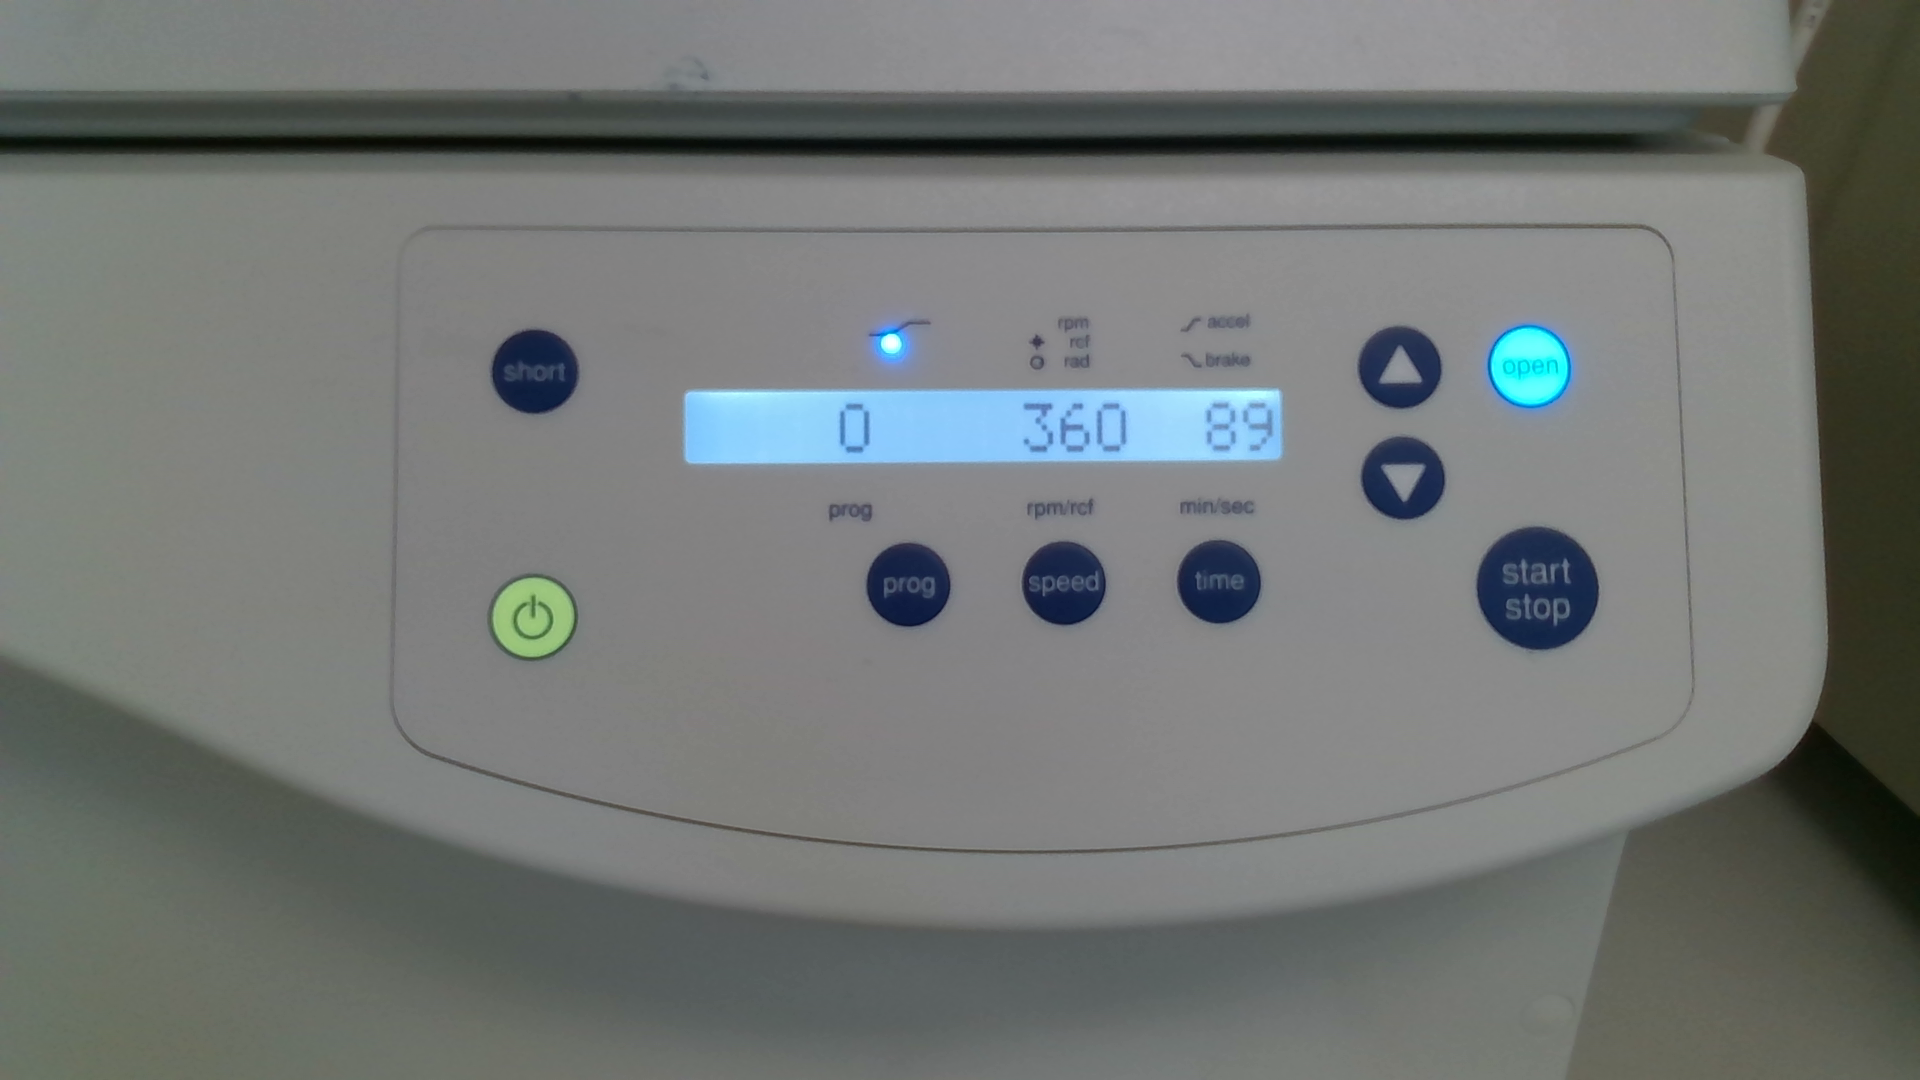0: (839, 404, 870, 454), (1096, 404, 1126, 452)
3: (1023, 402, 1054, 454)
6: (1060, 404, 1091, 452)
8: (1207, 404, 1236, 451)
9: (1242, 404, 1273, 451)
open_on: (1487, 324, 1571, 410)
power_on: (487, 574, 579, 662)
